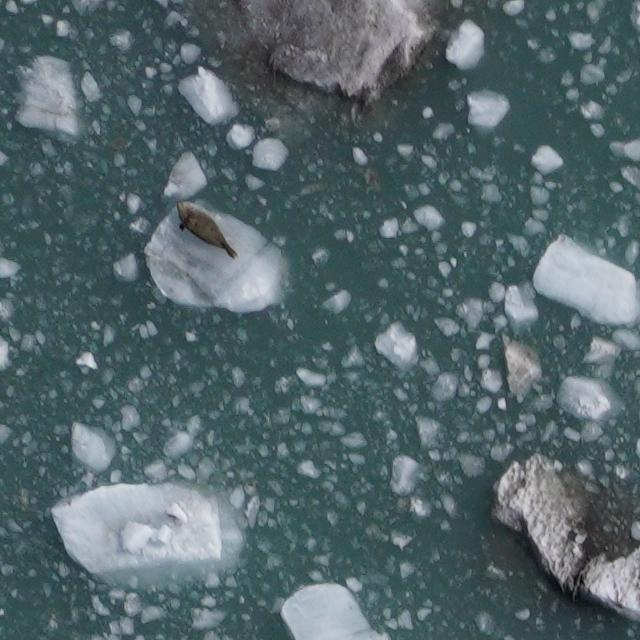seal: (170, 197, 243, 261)
